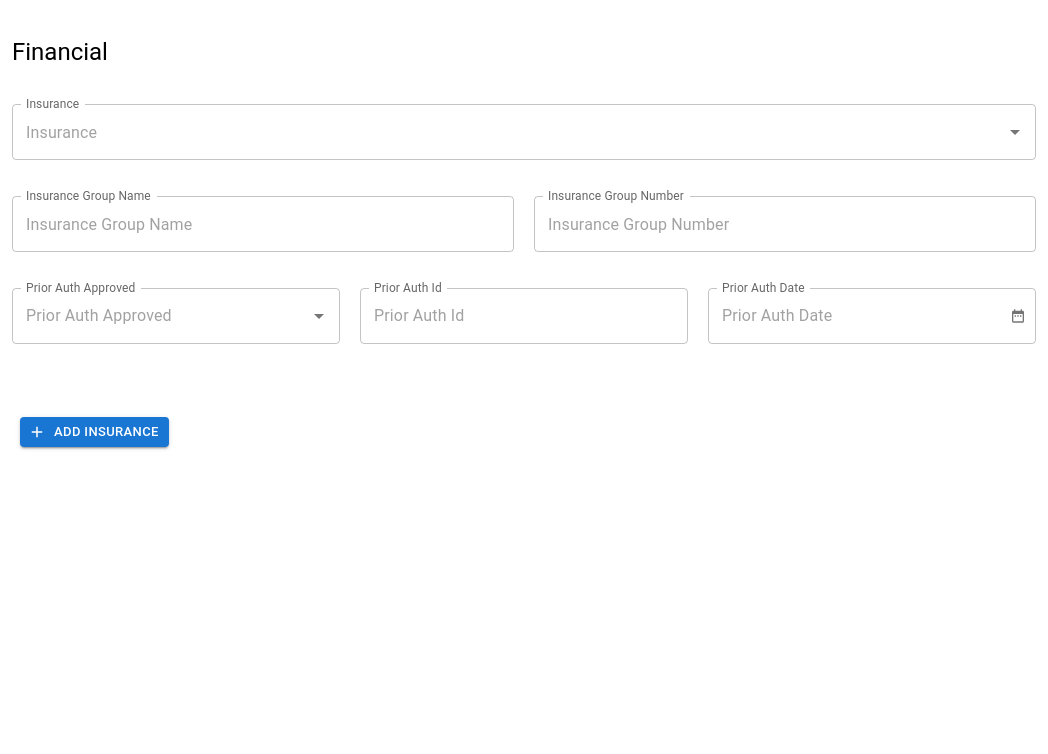
it: FinancialTab › can add more insurances
This screenshot has width=1048, height=754.
Click the button "Add Insurance" at (94, 432), box x1=20 y1=417 x2=169 y2=447
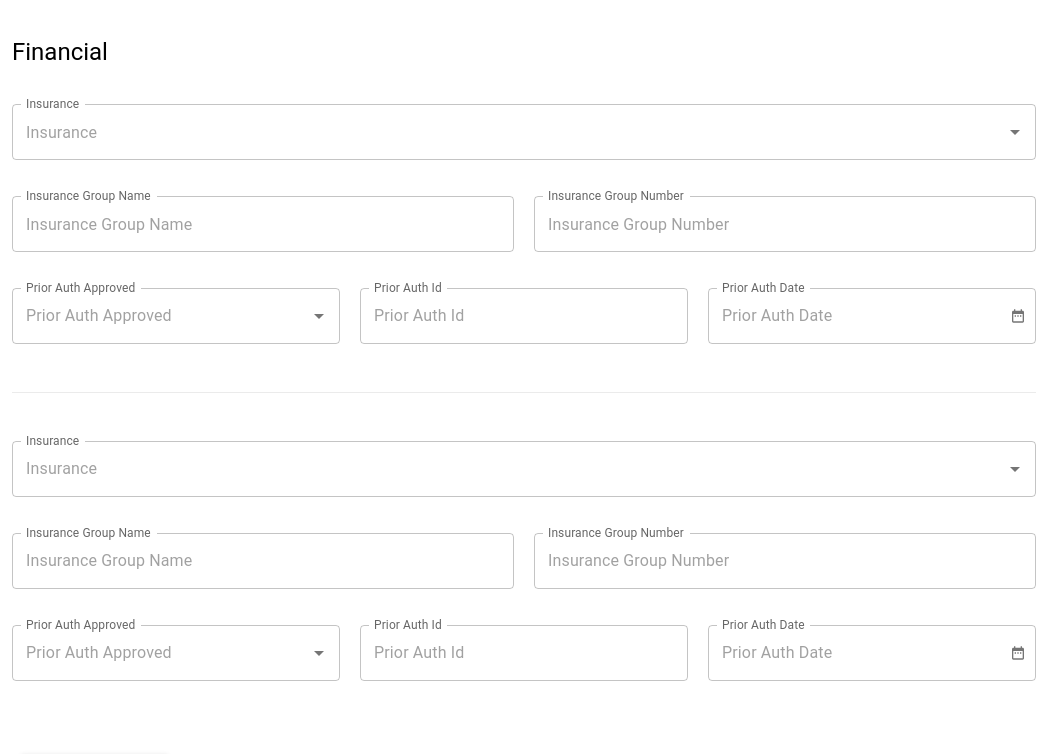
Expected: the number of dropdowns labelled "Insurance" is 2, x1=21 y1=113 x2=997 y2=151; x1=21 y1=450 x2=997 y2=488
